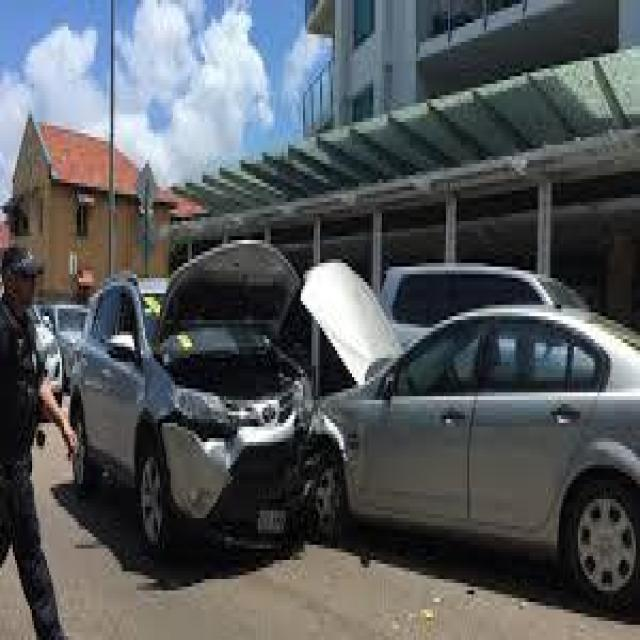moderate: (64, 236, 640, 602)
